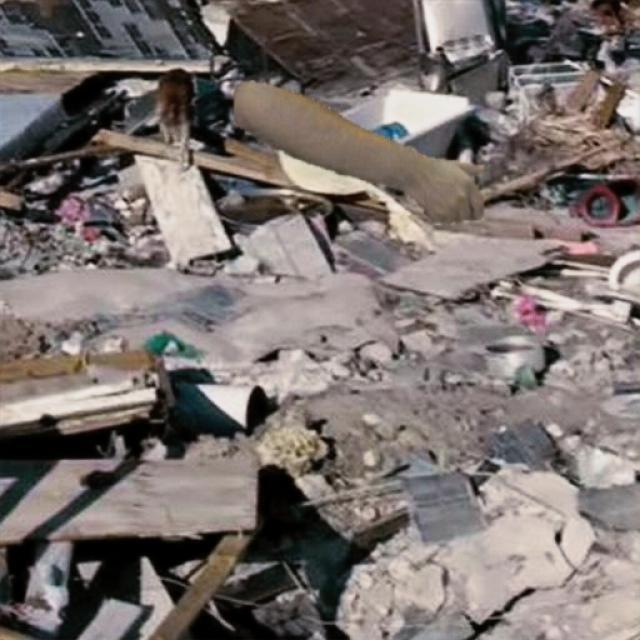Person in Rubble: (233, 80, 482, 224)
